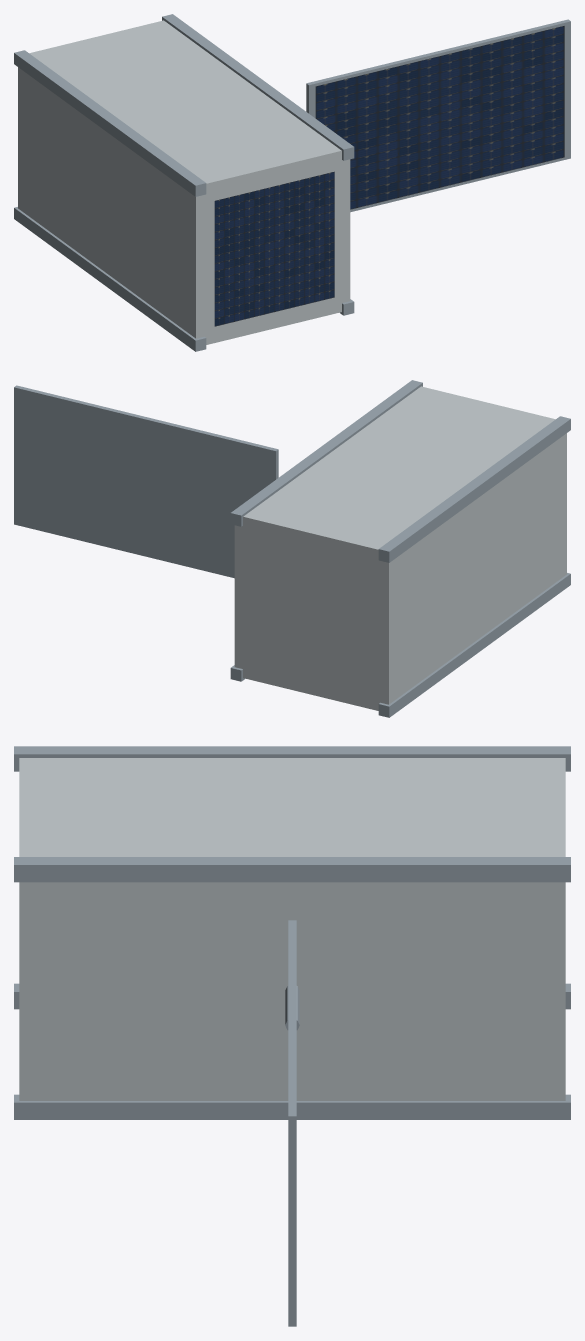
Rendered from ref-cubesat-2u-65941.glb.
The picture shows the model from 3 angles, top to bottom: view 1: azimuth 30°, elevation 25°; view 2: azimuth 150°, elevation 25°; view 3: azimuth 270°, elevation 25°; orthographic projection. The views are drawn at different scales.
Parts seen in each view (by area): view 1: Spacecraft body, Photovoltaic laminates, Body-mounted cells, Dispenser rail (×3), Array frame; view 2: Spacecraft body, Array frame, Dispenser rail (×3); view 3: Spacecraft body, Dispenser rail (×3), Array frame.
Boxes of the visible parts, x1=… form: Spacecraft body: x1=18, y1=20, x2=350, y2=344; Photovoltaic laminates: x1=315, y1=26, x2=564, y2=209; Body-mounted cells: x1=214, y1=171, x2=334, y2=326; Dispenser rail (×3): x1=14, y1=14, x2=354, y2=351; Array frame: x1=306, y1=19, x2=570, y2=212; Spacecraft body: x1=234, y1=386, x2=566, y2=710; Array frame: x1=14, y1=385, x2=278, y2=578; Dispenser rail (×3): x1=230, y1=380, x2=570, y2=717; Spacecraft body: x1=19, y1=758, x2=565, y2=1100; Dispenser rail (×3): x1=14, y1=746, x2=570, y2=1119; Array frame: x1=288, y1=920, x2=296, y2=1326.
Bounding box in the file's own units: 0.3015 × 0.103 × 0.204.
Materials: 3 (1 with a texture image).
